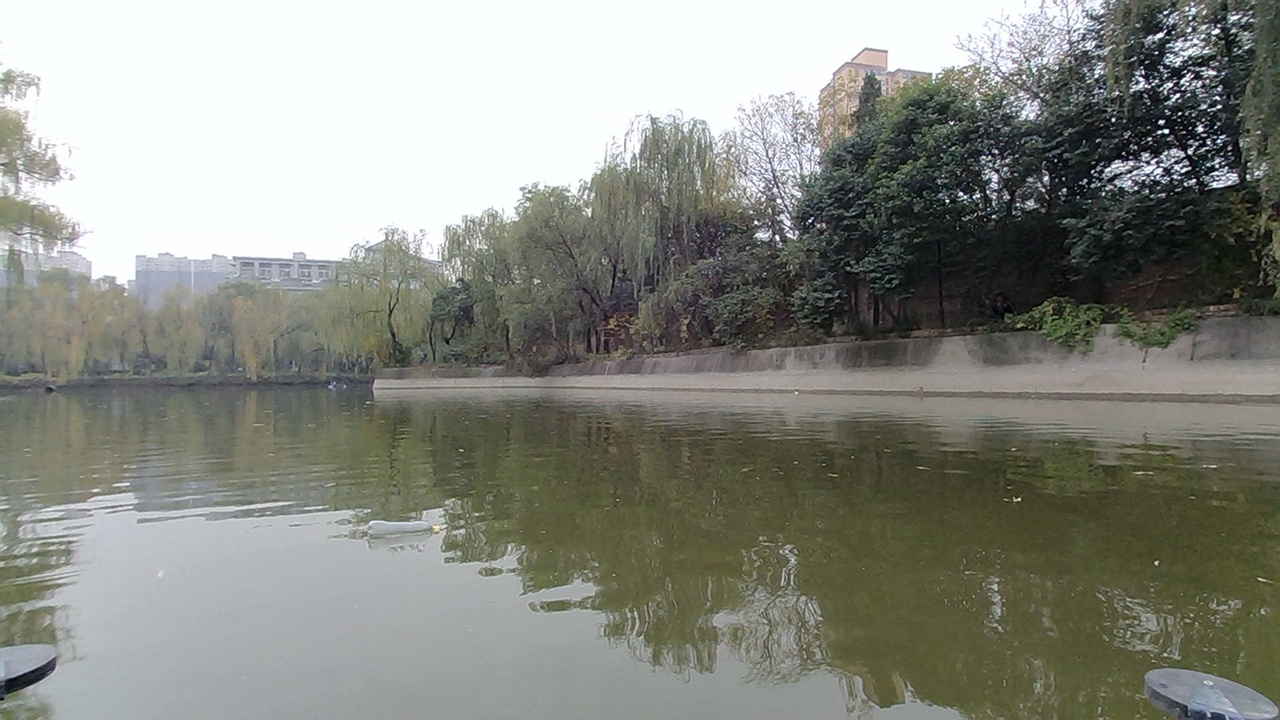bottle: (346, 503, 443, 561)
